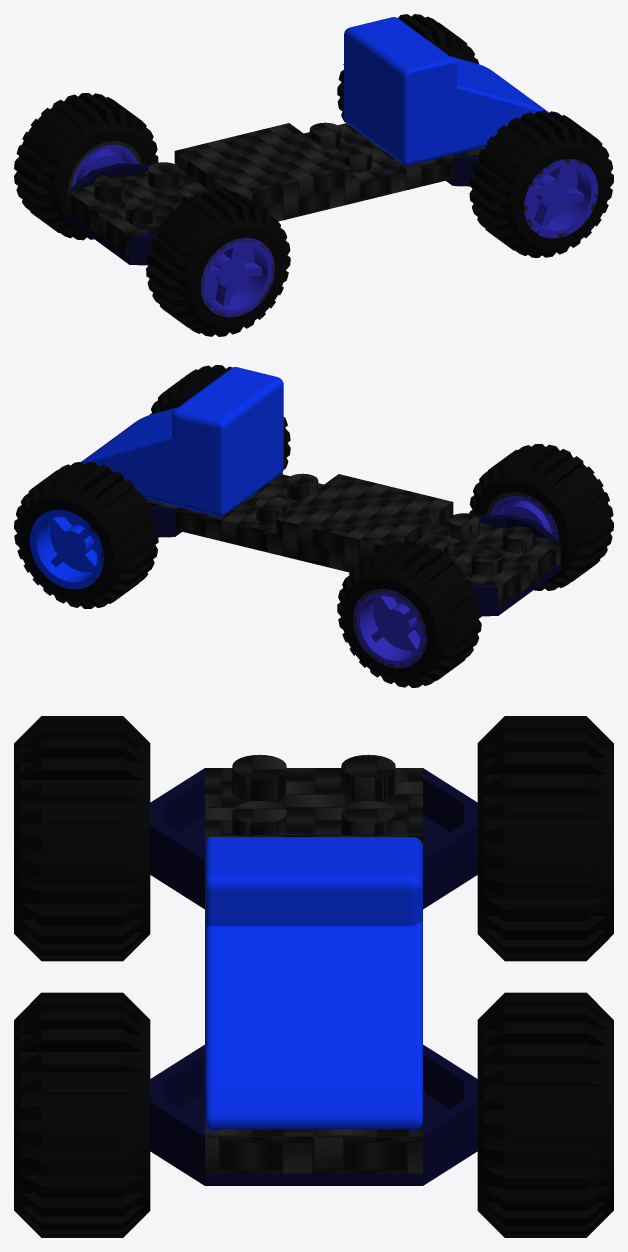
The model's file is car_full7.glb.
3 views of the same model, one above another, from view 1: azimuth 30°, elevation 25°; view 2: azimuth 150°, elevation 25°; view 3: azimuth 270°, elevation 25° (orthographic). The views are drawn at different scales.
Parts seen in each view (by area): view 1: color, color-3, color-4[3], color-4[2], color-4[1], color-5[3], color-5[2], color-2[1], color-4, color-5[1], color-2; view 2: color, color-3, color-4[1], color-4, color-4[3], color-5, color-5[1], color-2[1], color-4[2], color-5[3], color-2; view 3: color-3, color-4, color-4[1], color-4[2], color-4[3], color, color-2, color-2[1].
Part boxes in pixels (box(x1,y1,x2,y2)): color: box(67, 122, 485, 257); color-3: box(344, 17, 549, 165); color-4[3]: box(146, 189, 290, 336); color-4[2]: box(469, 110, 613, 257); color-4[1]: box(14, 93, 158, 240); color-5[3]: box(201, 237, 274, 317); color-5[2]: box(524, 159, 598, 238); color-2[1]: box(67, 163, 156, 265); color-4: box(337, 14, 478, 122); color-5[1]: box(72, 144, 137, 186); color-2: box(446, 155, 479, 186); color: box(143, 473, 560, 608); color-3: box(81, 367, 283, 516); color-4[1]: box(337, 540, 481, 687); color-4: box(14, 462, 158, 608); color-4[3]: box(469, 444, 613, 590); color-5: box(29, 510, 103, 589); color-5[1]: box(353, 589, 426, 668); color-2[1]: box(472, 514, 560, 616); color-4[2]: box(149, 365, 290, 474); color-5[3]: box(490, 495, 559, 540); color-2: box(149, 506, 181, 537); color-3: box(205, 837, 422, 1131); color-4: box(477, 992, 613, 1237); color-4[1]: box(477, 716, 613, 961); color-4[2]: box(14, 992, 150, 1237); color-4[3]: box(14, 716, 150, 961); color: box(205, 754, 422, 1173); color-2: box(150, 1044, 477, 1185); color-2[1]: box(150, 768, 477, 909).
Bounding box in the file's own units: 0.066 × 0.0248 × 0.044.
Materials: 15 (5 with a texture image).
